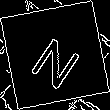N_NE: (24, 22, 86, 88)
